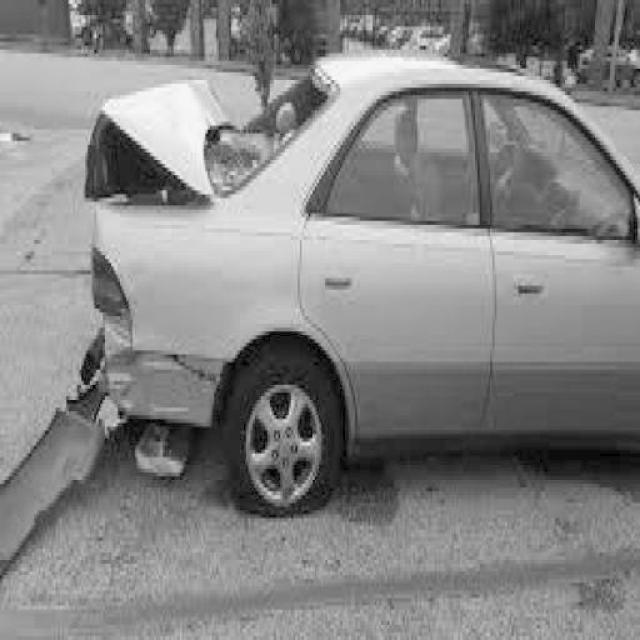car damage: (0, 63, 342, 567)
